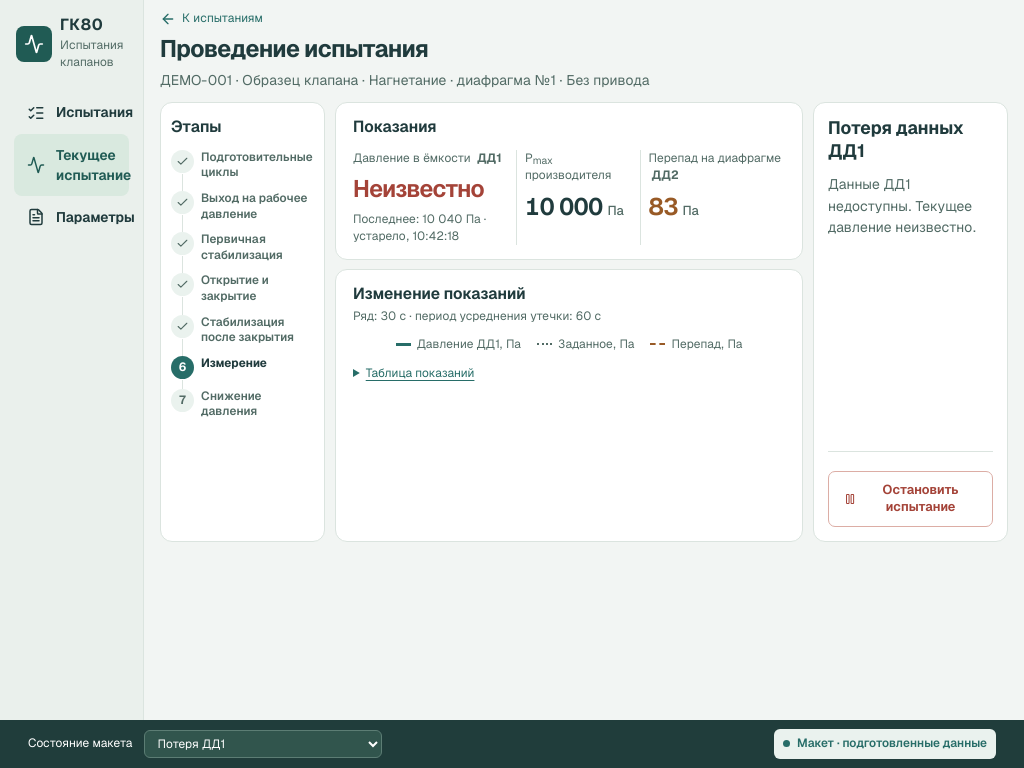
подготовленные состояния оператора › после потери ДД1 остановка не возвращает неизвестное давление к достоверному значению
Click the button "Остановить испытание".
click(910, 499)  # box [828,471,993,527]
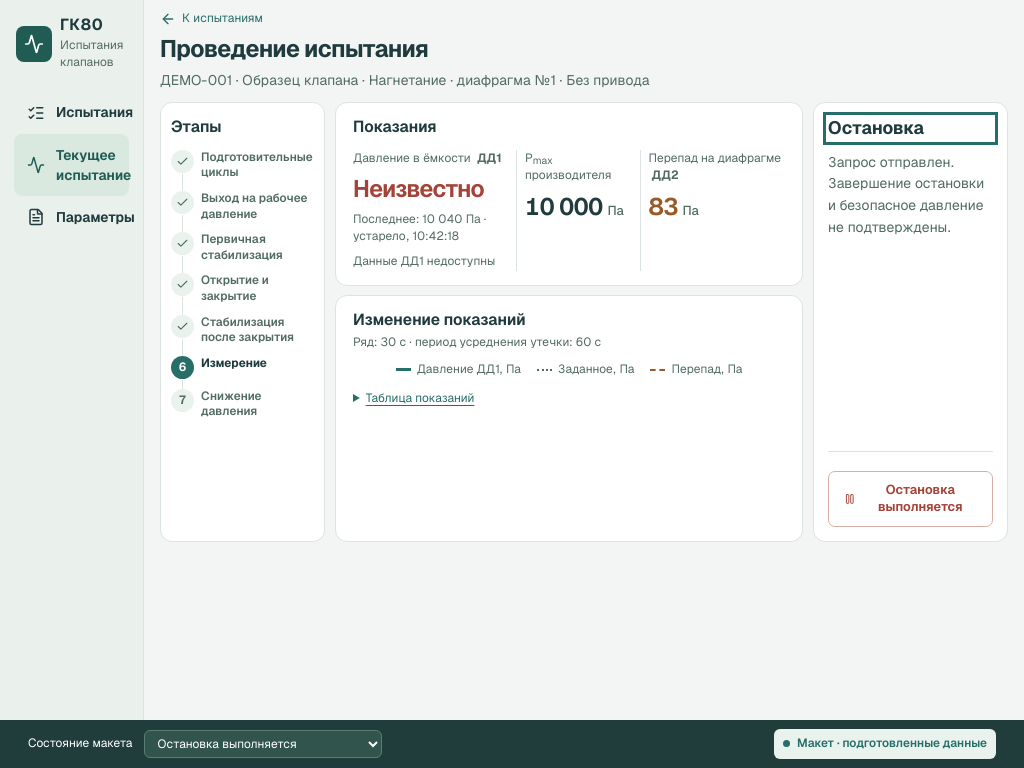
Expected: the text "Неизвестно" is shown, [353,173,484,204]
Now the button "Остановка выполняется" is disabled, box [828,471,993,527]
